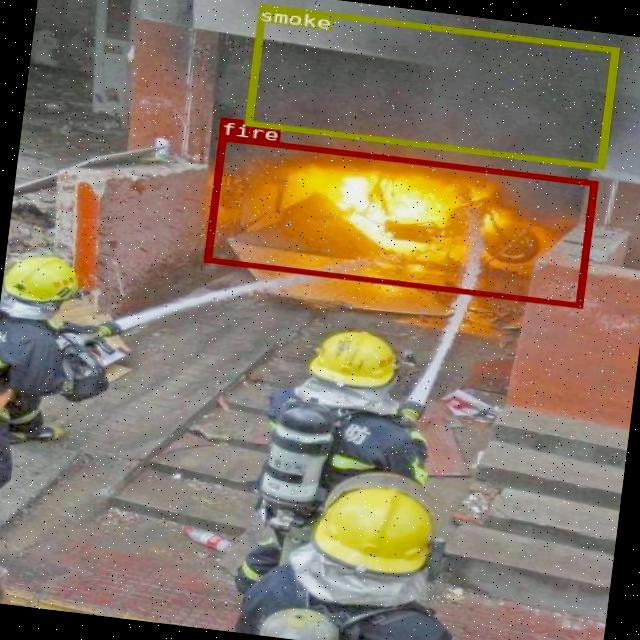fire: (202, 134, 596, 308)
smoke: (244, 3, 618, 168)
